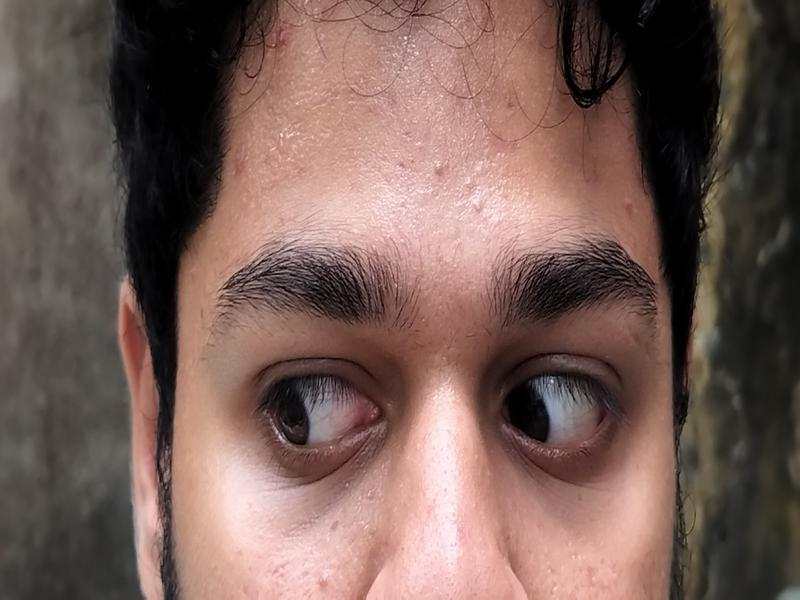EYE RIGHT: (272, 374, 387, 446), (500, 374, 617, 443)
